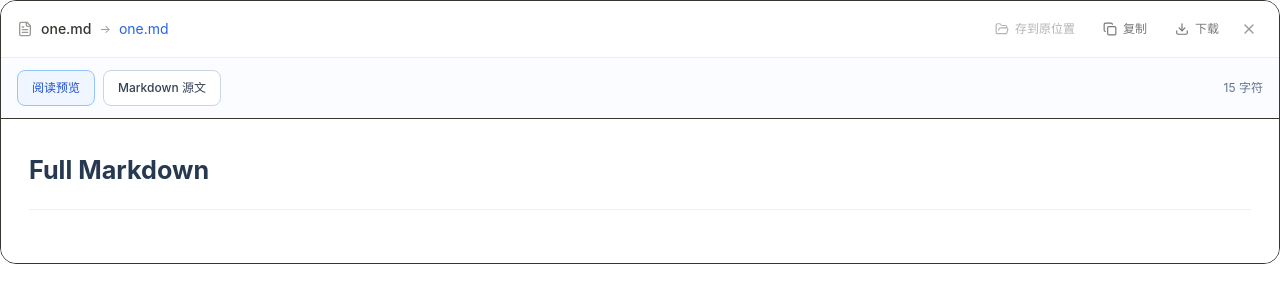
Test: renders source and reading modes from the complete cached text
The image size is (1280, 281).
Expected: the heading "Full Markdown" is shown, left=29, top=147, right=1251, bottom=210
Click the button "Markdown 源文" at point(162, 88), box left=103, top=70, right=221, bottom=106
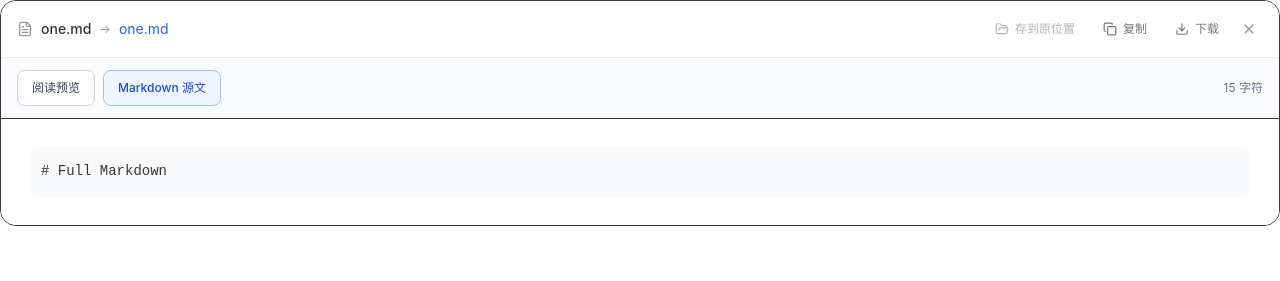
Now the text "# Full Markdown" is shown, box left=29, top=147, right=1251, bottom=197
